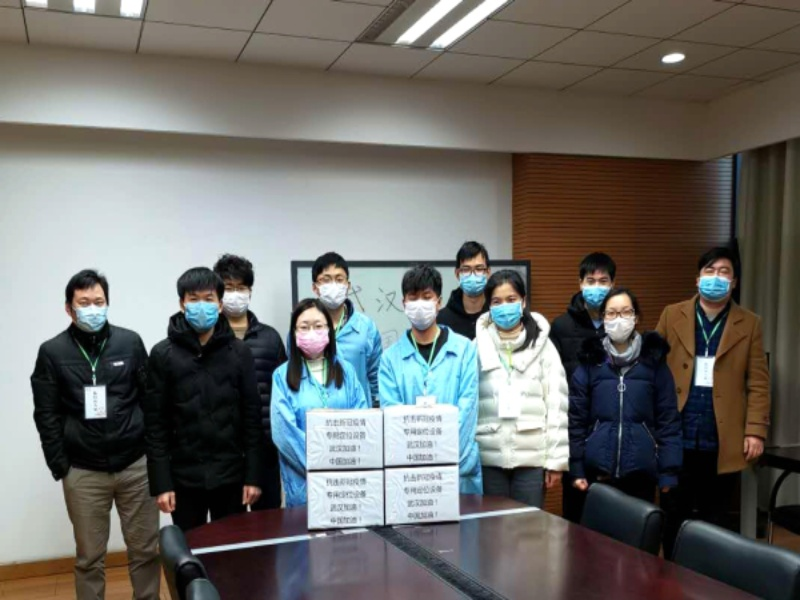ManaoArotava: (393, 260, 449, 345), (484, 267, 545, 341), (211, 250, 265, 333), (285, 296, 340, 371), (174, 263, 226, 338), (61, 265, 113, 339), (694, 237, 746, 311), (309, 246, 356, 321), (573, 249, 621, 321), (448, 230, 491, 307), (599, 290, 641, 350)
